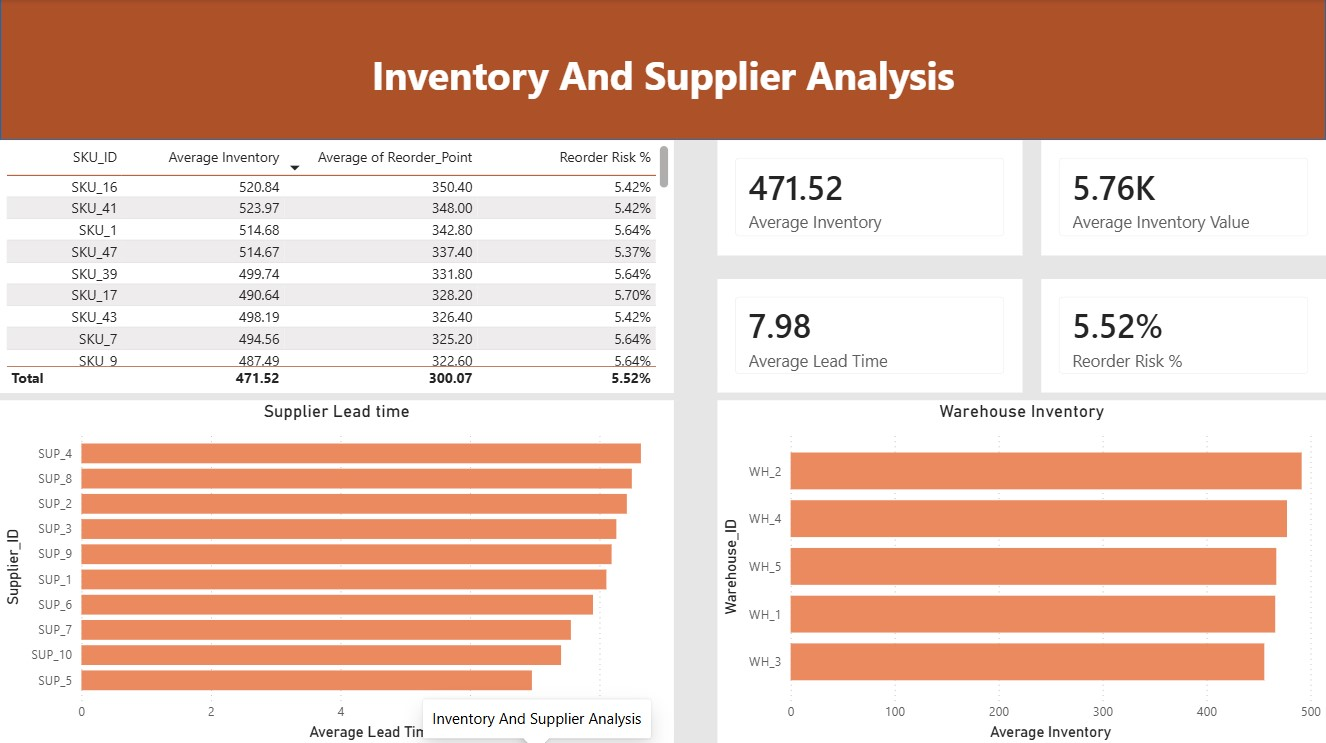

This screenshot's page, from the dashboard's own definition file:
{"tool":"powerbi","page":{"name":"Inventory And Supplier Analysis","canvas":[1280,720],"ordinal":1},"visuals":[{"type":"cardVisual","fields":{"Data":["_Measures.Reorder Risk %"]},"box":[1005,270.2,275.1,109.8],"z":0},{"type":"cardVisual","fields":{"Data":["_Measures.Average Inventory Value"]},"box":[1005,136.3,275.1,111],"z":1000},{"type":"cardVisual","fields":{"Data":["_Measures.Average Inventory"]},"box":[692.5,136.3,294.4,111],"z":2000},{"type":"cardVisual","fields":{"Data":["_Measures.Average Lead Time"]},"box":[692.5,270.2,294.4,109.8],"z":3000},{"type":"tableEx","fields":{"Values":["DimProduct.SKU_ID","_Measures.Average Inventory","Avg(supply_chain_dataset1.Reorder_Point)","_Measures.Reorder Risk %"]},"box":[0,136.3,650.3,243.7],"z":4000},{"type":"barChart","title":"Supplier Lead time","fields":{"Category":["DimSupplier.Supplier_ID"],"Y":["_Measures.Average Lead Time"]},"box":[0,387.3,650.3,333],"z":5000},{"type":"barChart","title":"Warehouse Inventory","fields":{"Category":["DImWarehouse.Warehouse_ID"],"Y":["_Measures.Average Inventory"]},"box":[692.5,387.3,587.5,333],"z":6000},{"type":"shape","box":[0,0,1280,136.3],"z":6001},{"type":"textbox","box":[0,43.4,1280,61.5],"z":6002}]}

Visuals, with their boxes in screenshot pixels (x1, y1, x2, y2), scaled from the page's 1280x720 canvas onto the 1326x743 screenshot:
cardVisual - _Measures.Reorder Risk %: (1041, 279, 1325, 392)
cardVisual - _Measures.Average Inventory Value: (1041, 141, 1325, 255)
cardVisual - _Measures.Average Inventory: (717, 141, 1022, 255)
cardVisual - _Measures.Average Lead Time: (717, 279, 1022, 392)
tableEx - DimProduct.SKU_ID x _Measures.Average Inventory: (0, 141, 674, 392)
"Supplier Lead time" barChart: (0, 400, 674, 742)
"Warehouse Inventory" barChart: (717, 400, 1325, 742)
shape: (0, 0, 1325, 141)
textbox: (0, 45, 1325, 108)
